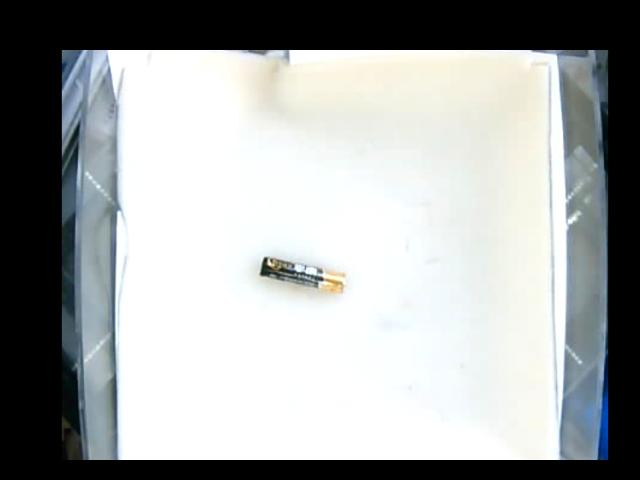Battery: (259, 255, 346, 292)
